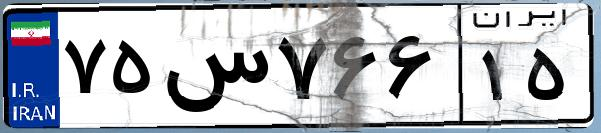1: (475, 38, 525, 113)
5: (525, 38, 570, 115), (110, 28, 158, 98)
6: (385, 28, 445, 110), (330, 28, 385, 110)
7: (270, 28, 330, 110), (57, 26, 110, 100)
س: (158, 20, 270, 120)
